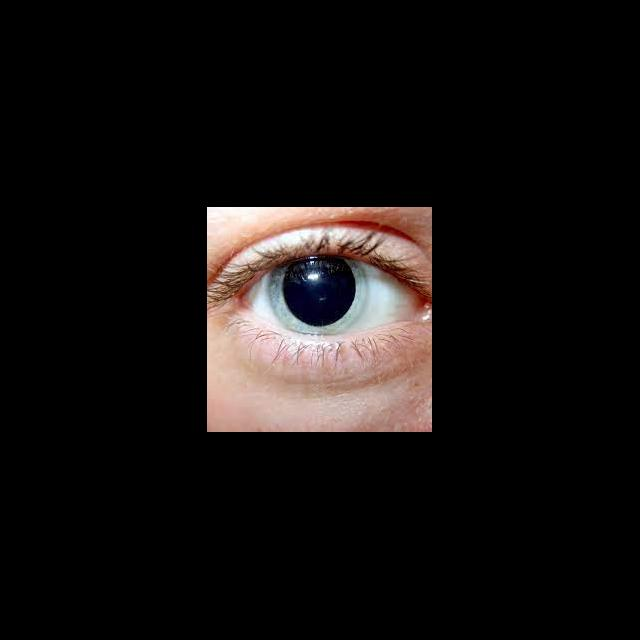eye: (242, 256, 416, 335)
iris: (272, 257, 366, 333)
